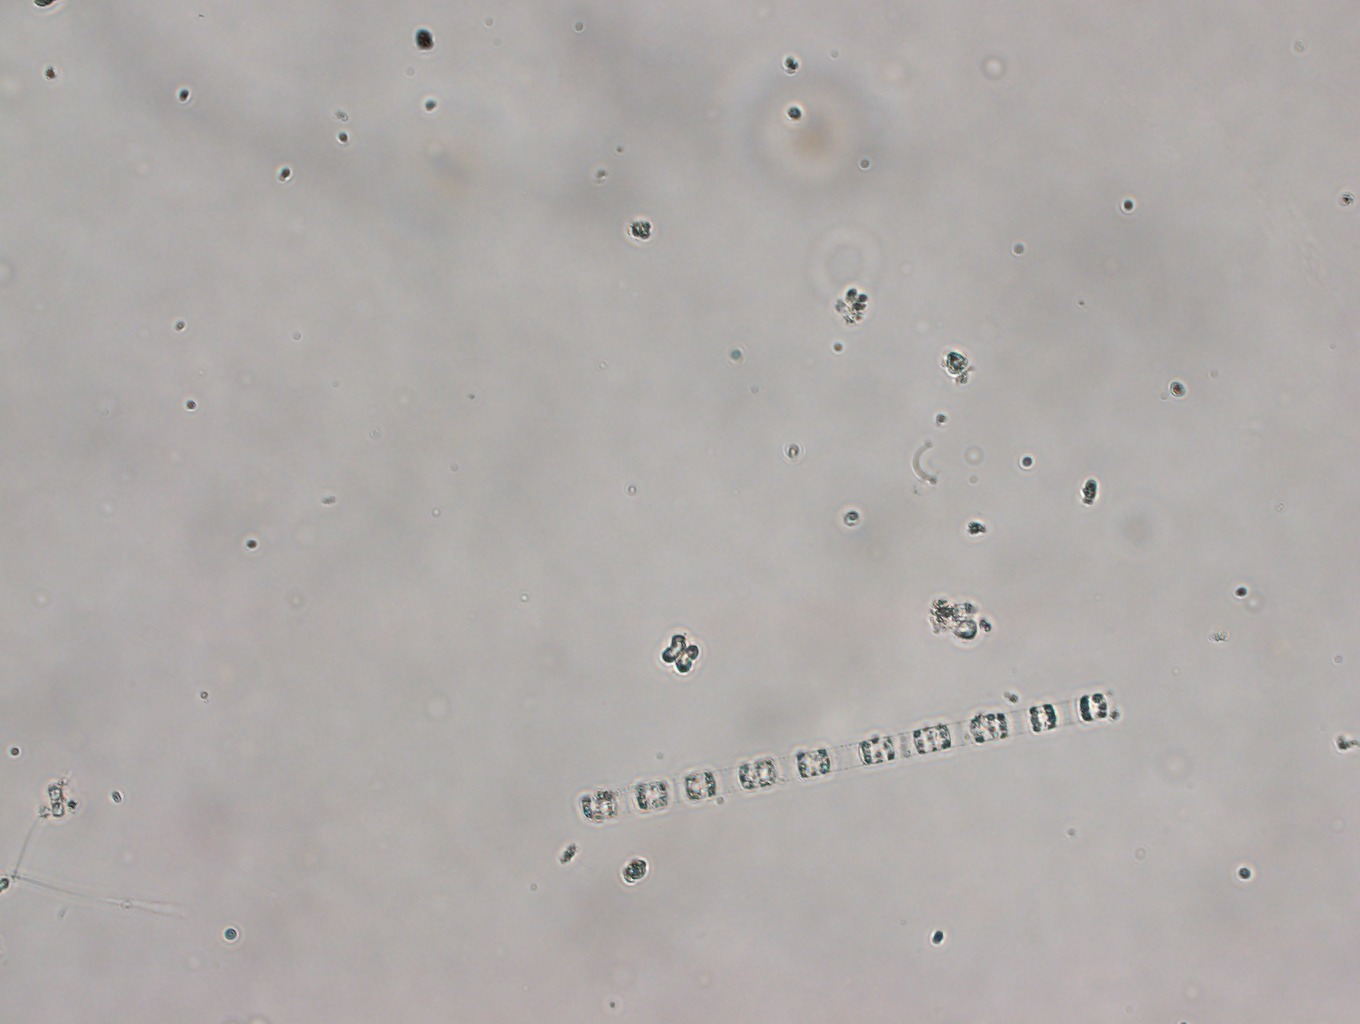skeletonema: (568, 675, 1126, 834)
